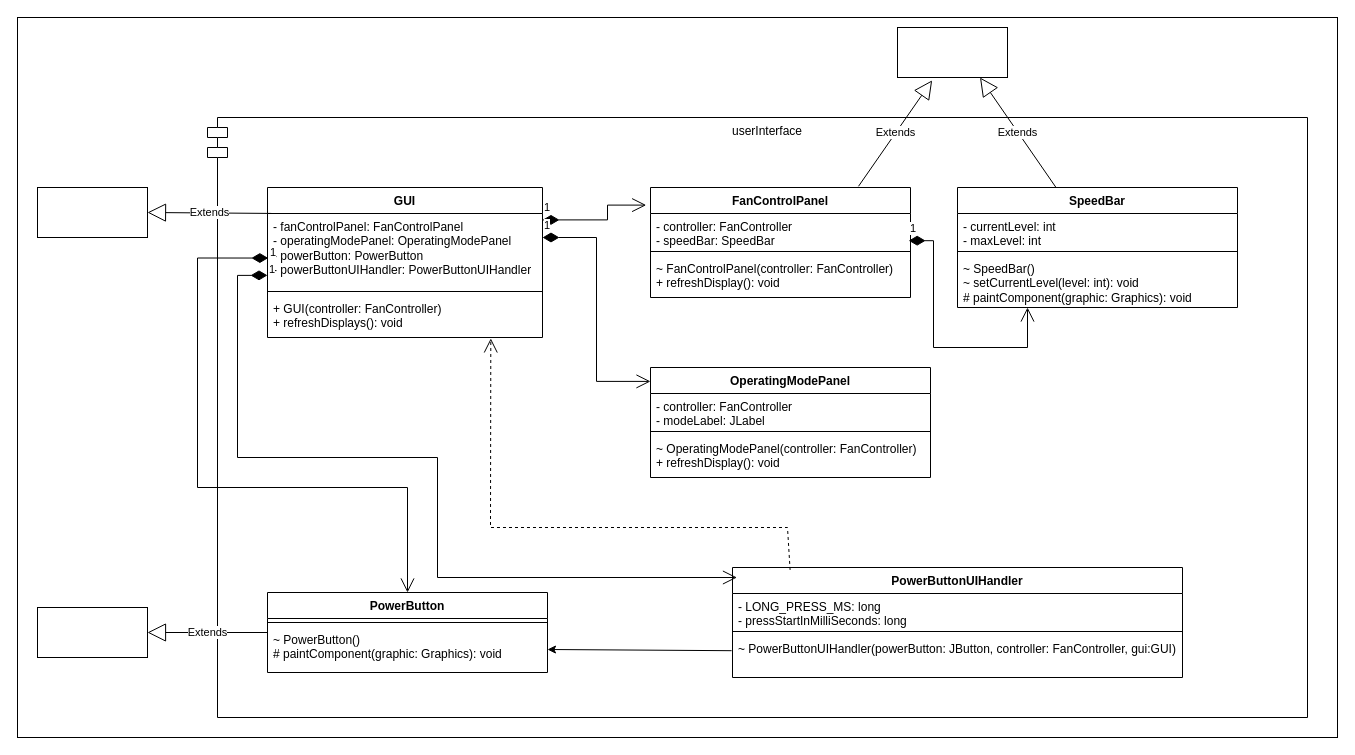
Image size: 1355x755. Some labels were removed from this diagram. The shapes that lost their labels are listed below. From the top down, each one's centre as x and y in pixels, then its label:
(952,52): «external» JPanel
(92,212): «external» JFrame
(92,632): «external» JButton
